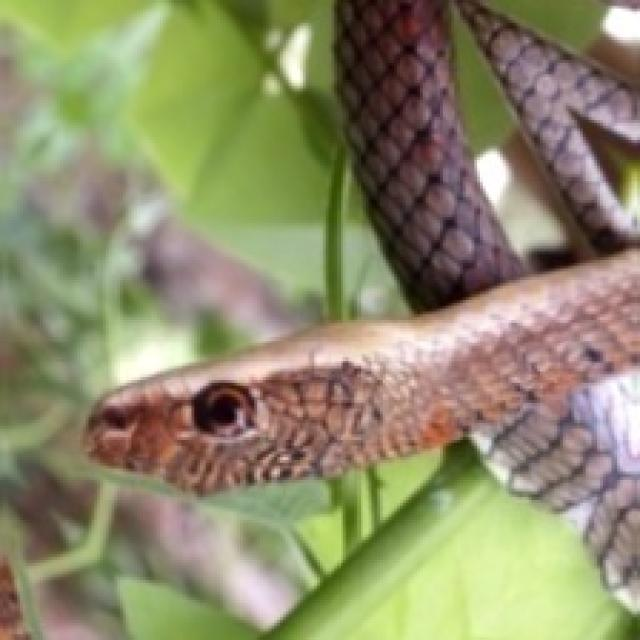paradise tree snake: (89, 0, 637, 637), (446, 6, 626, 274)
